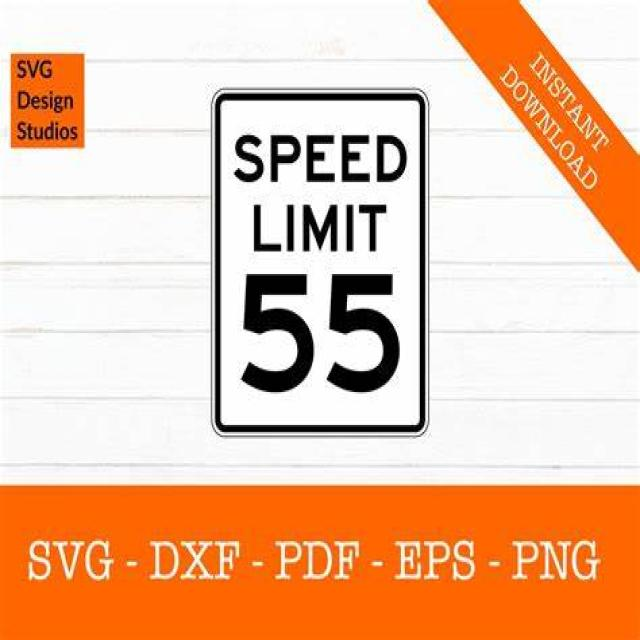speedLimit55: (211, 90, 426, 430)
